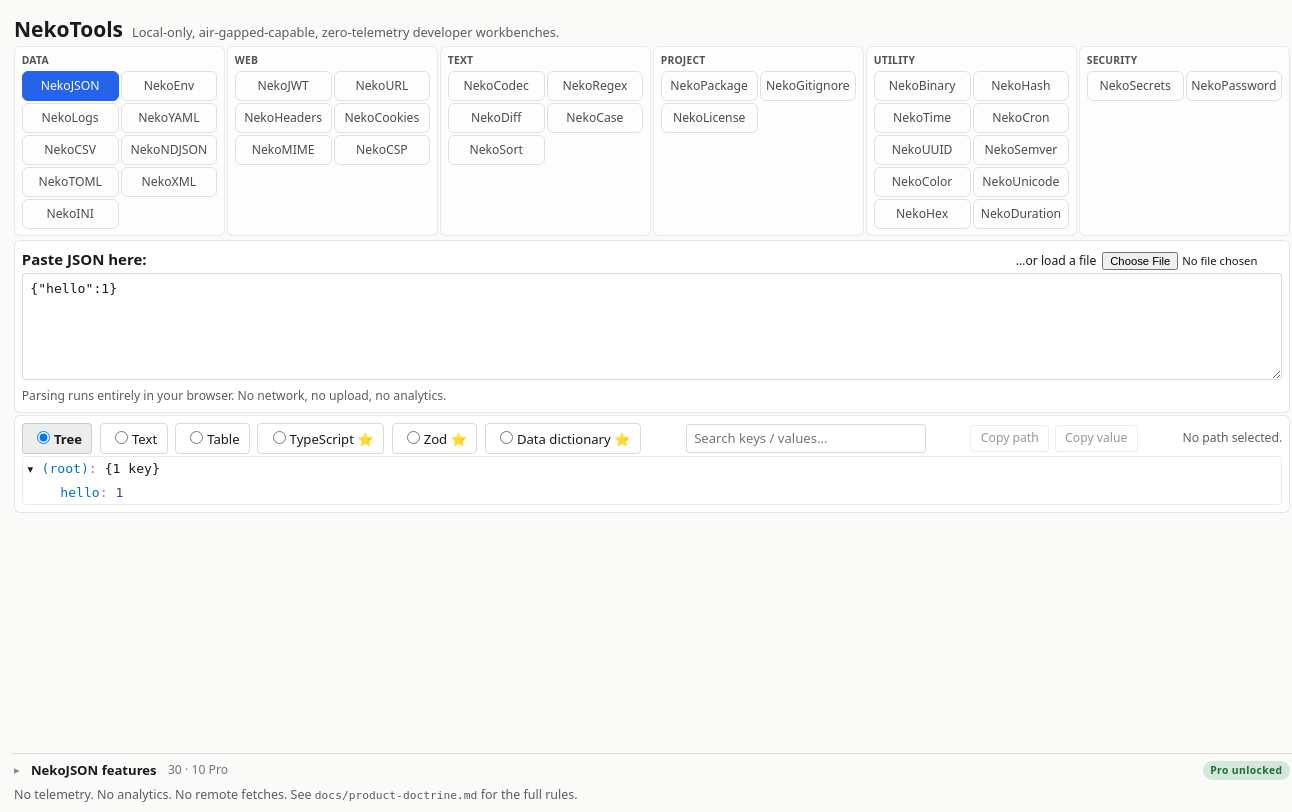
Test case: App integration › updates the active path when a tree node is clicked
Click the text "hello". click: (80, 492)
box: [60, 484, 100, 500]
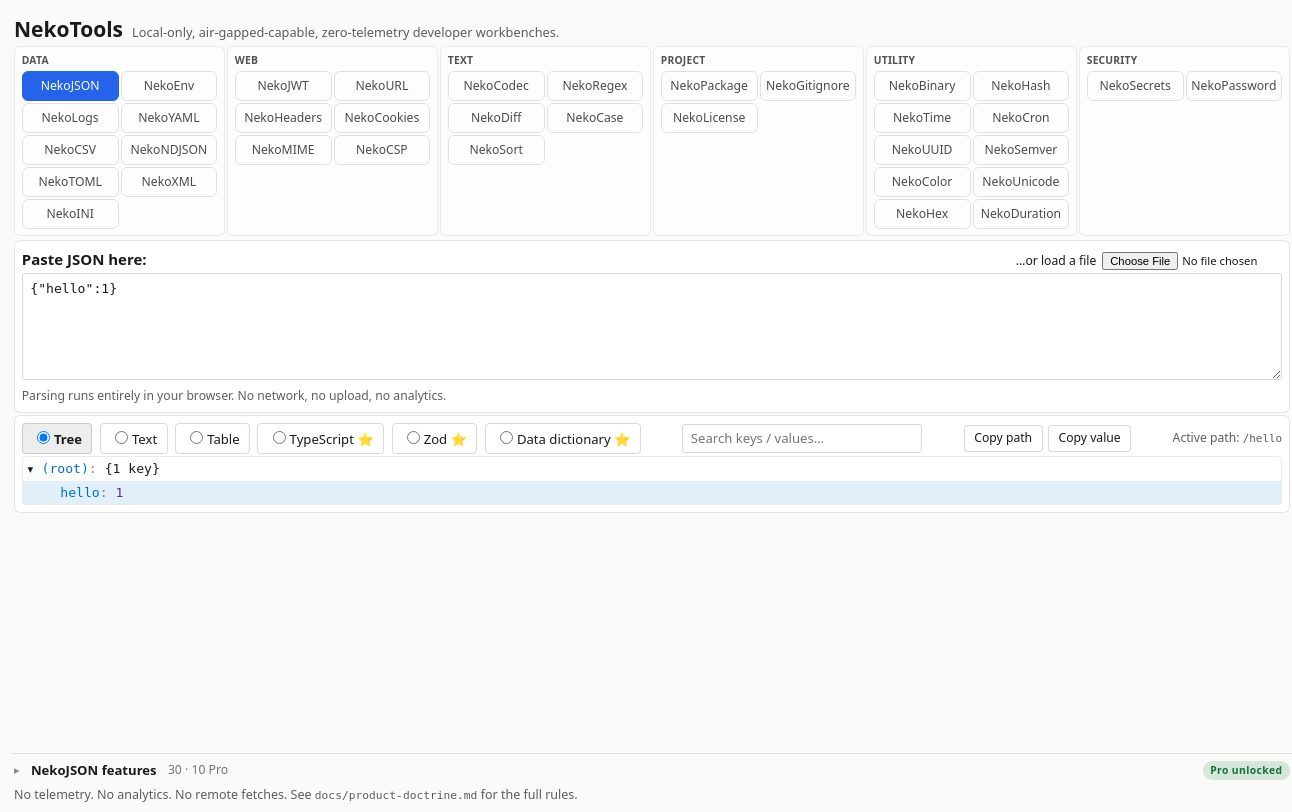
Expected: the element with test id "active-path" shows "/hello", [1243, 432, 1282, 445]
